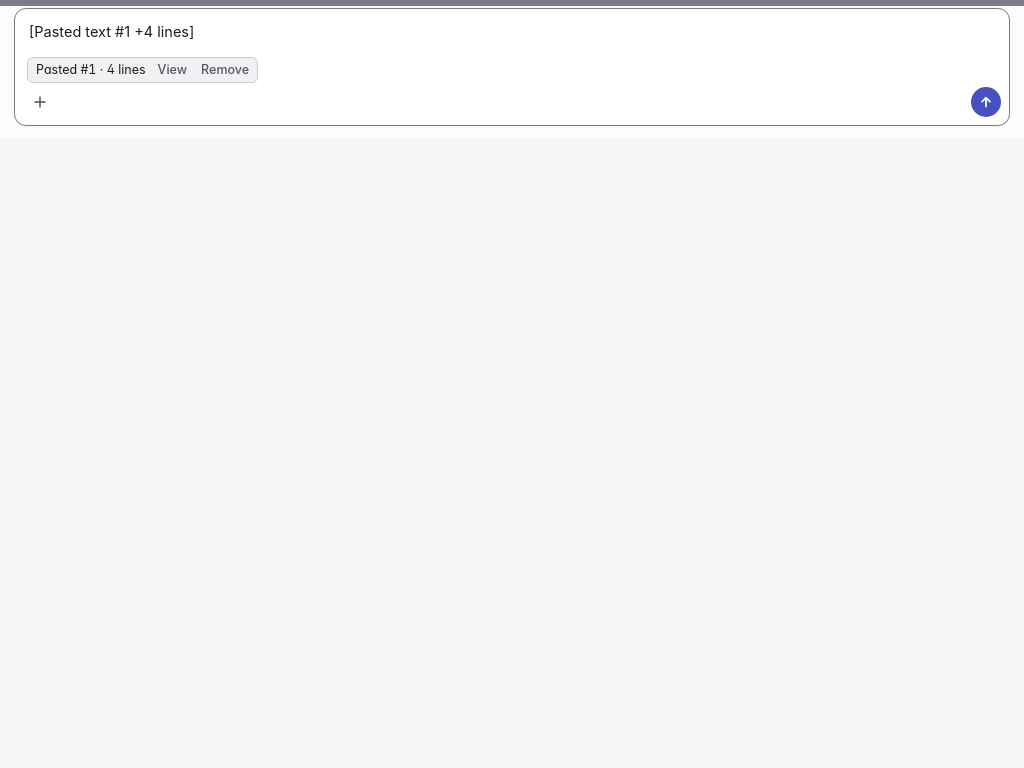
collapsing a large text paste › shows a chip for the paste, and View opens the whole text; Escape closes and returns focus
The width and height of the screenshot is (1024, 768).
Expected: the text "Pasted #1 · 4 lines" is shown, [36,61,146,79]
Step 1. Click the button with aria-label "View pasted text #1" → (172, 70), box [152,59,193,81]
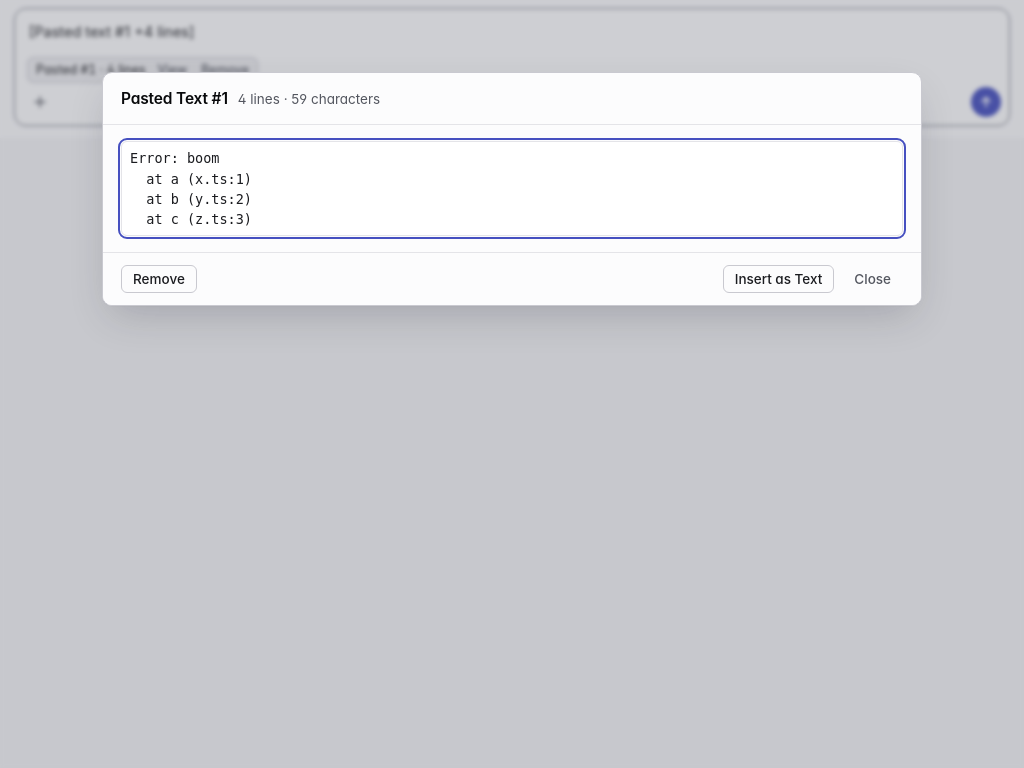
Step 2. Press Escape in the dialog "Pasted Text #1", box [102,72,922,306]
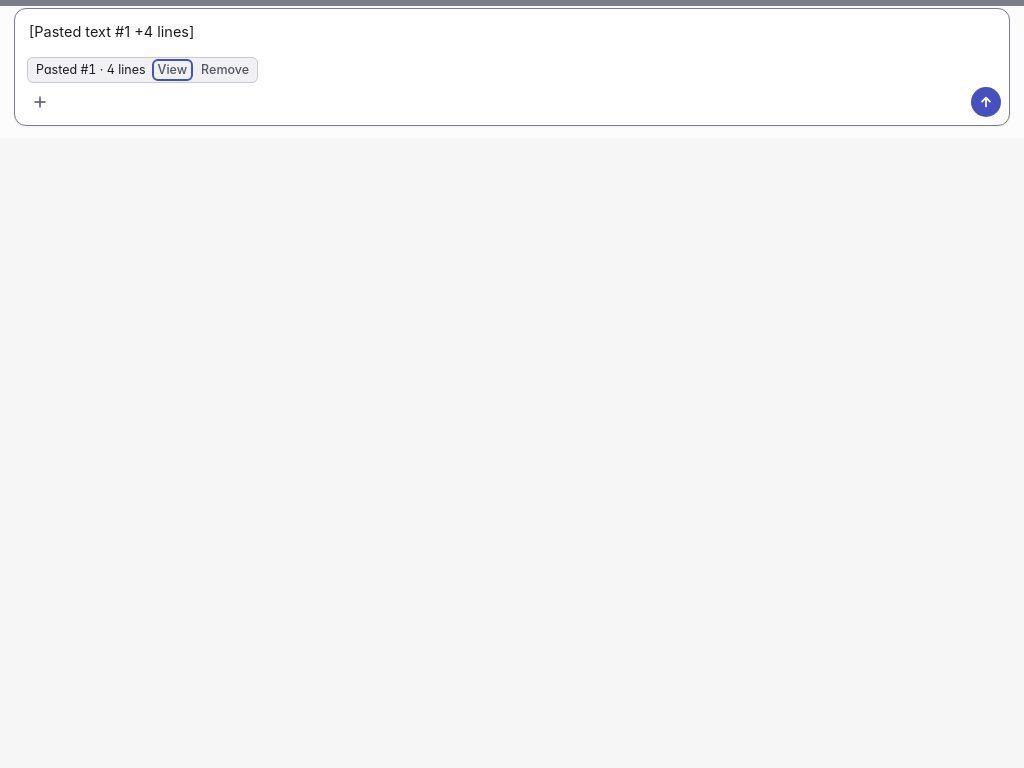
Expected: the text box holds "[Pasted text #1 +4 lines]", [15,9,1009,53]
Now the dialog is gone
